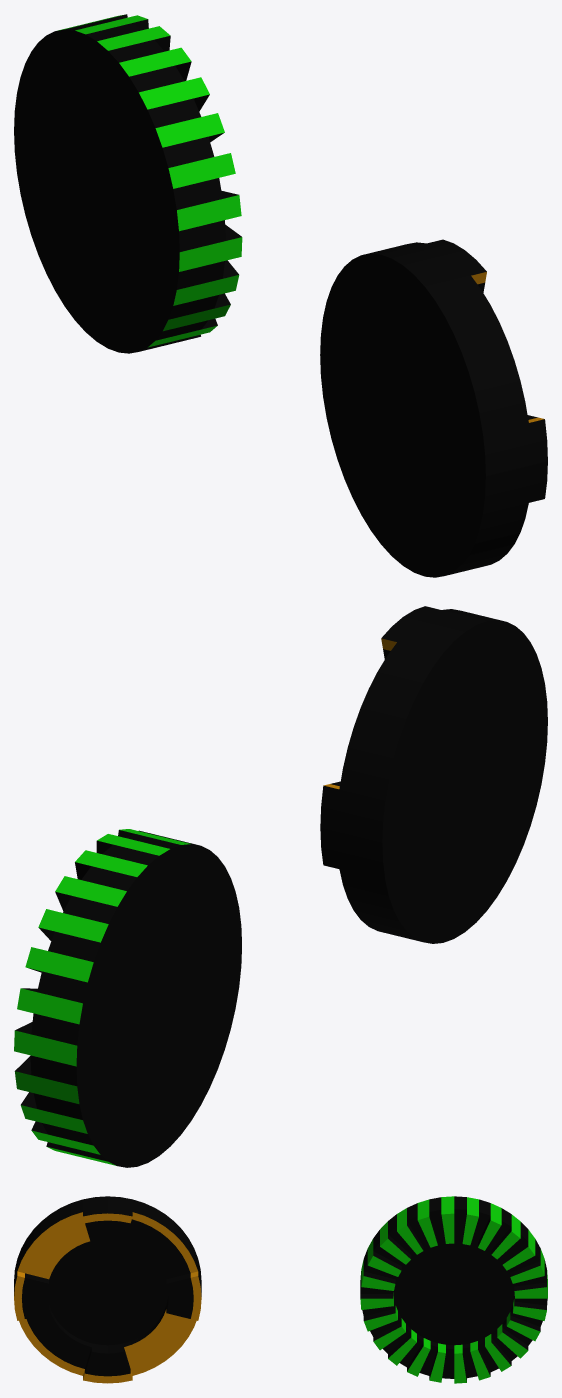
File: signs simple circle.fbx
3 renders of one model, top to bottom at view 1: azimuth 30°, elevation 25°; view 2: azimuth 150°, elevation 25°; view 3: azimuth 270°, elevation 25°, orthographic. The views are drawn at different scales.
Parts seen in each view (by area): view 1: BézierCircle.001 (×2), BézierCircle; view 2: BézierCircle.001 (×2), BézierCircle; view 3: BézierCircle.001 (×2), BézierCircle (×2).
Boxes of the visible parts, <box> form: BézierCircle.001 (×2): <box>14,14,242,353</box>; BézierCircle: <box>320,239,547,577</box>; BézierCircle.001 (×2): <box>14,829,241,1167</box>; BézierCircle: <box>320,606,547,943</box>; BézierCircle.001 (×2): <box>360,1196,547,1383</box>; BézierCircle (×2): <box>14,1196,201,1383</box>.
Bounding box in the file's own units: 43.58 × 200 × 569.
